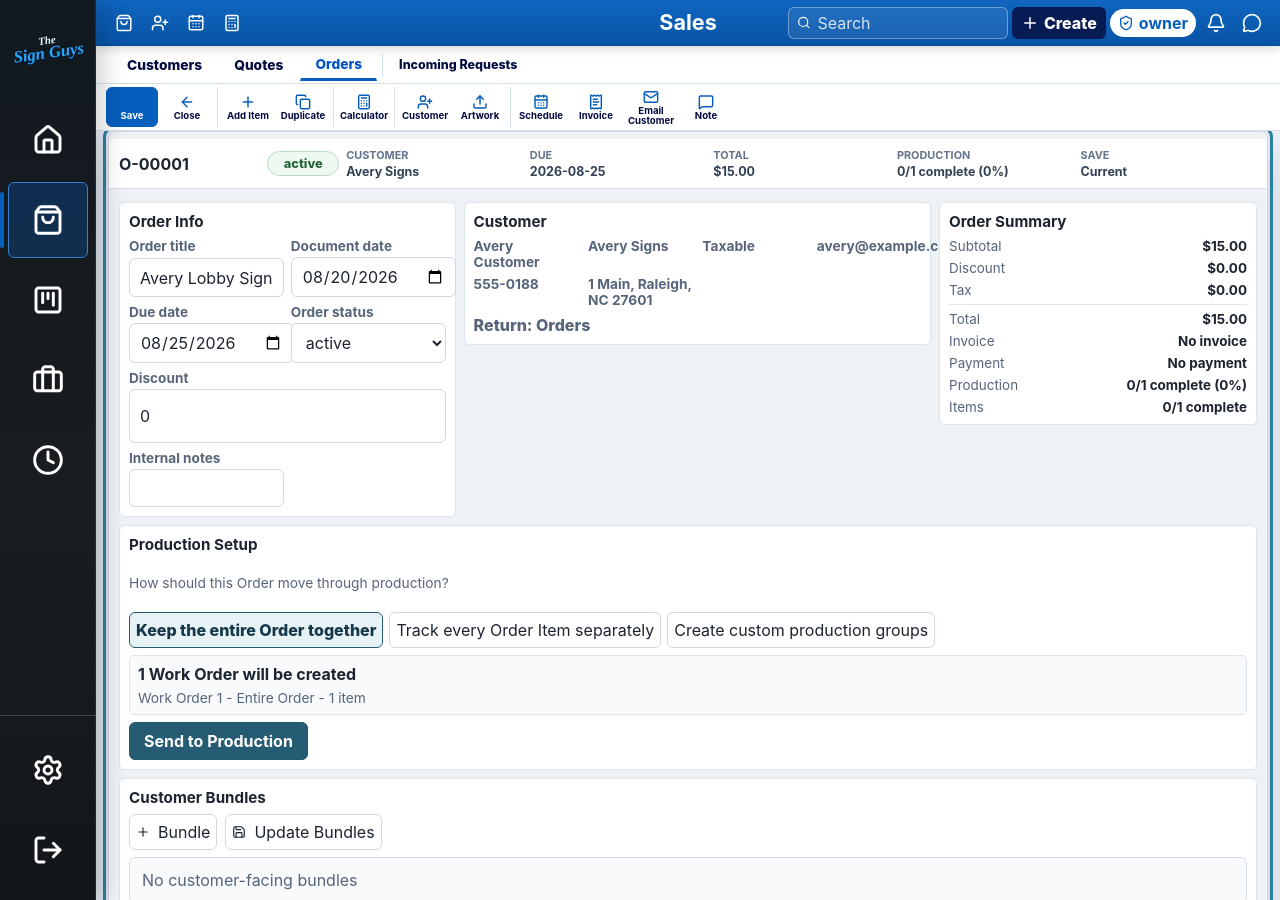
Test: Part 2 UI › blocks custom production send until every production item is assigned
This screenshot has width=1280, height=900.
Click the button "Create custom production groups": (801, 630) [667,612,935,648]
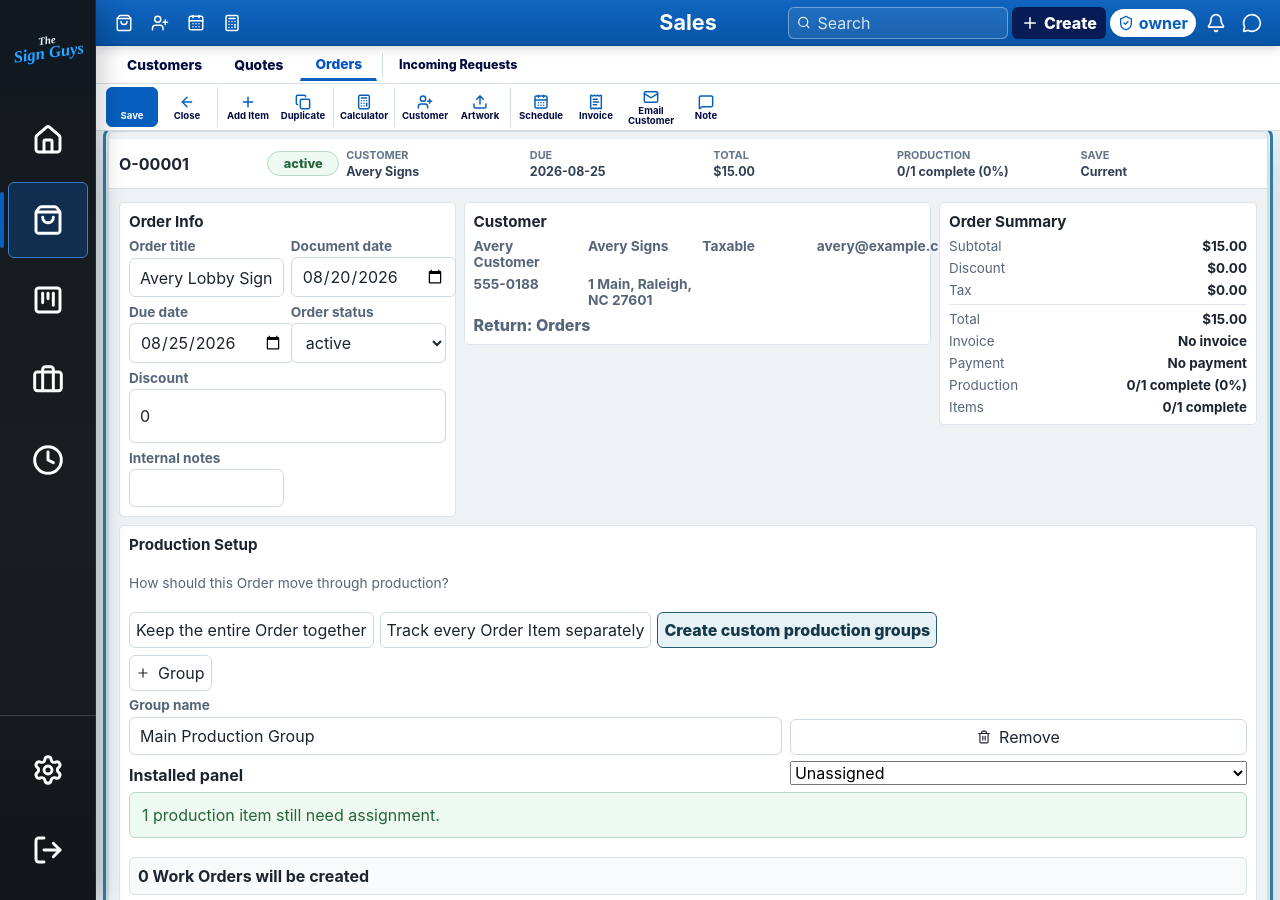
Expected: the text "1 production item still need assignment." is shown, [129,792,1247,838]
Select "Leave independent" in the dropdown named "Production group for Installed panel": (1018, 772) [790,760,1247,784]
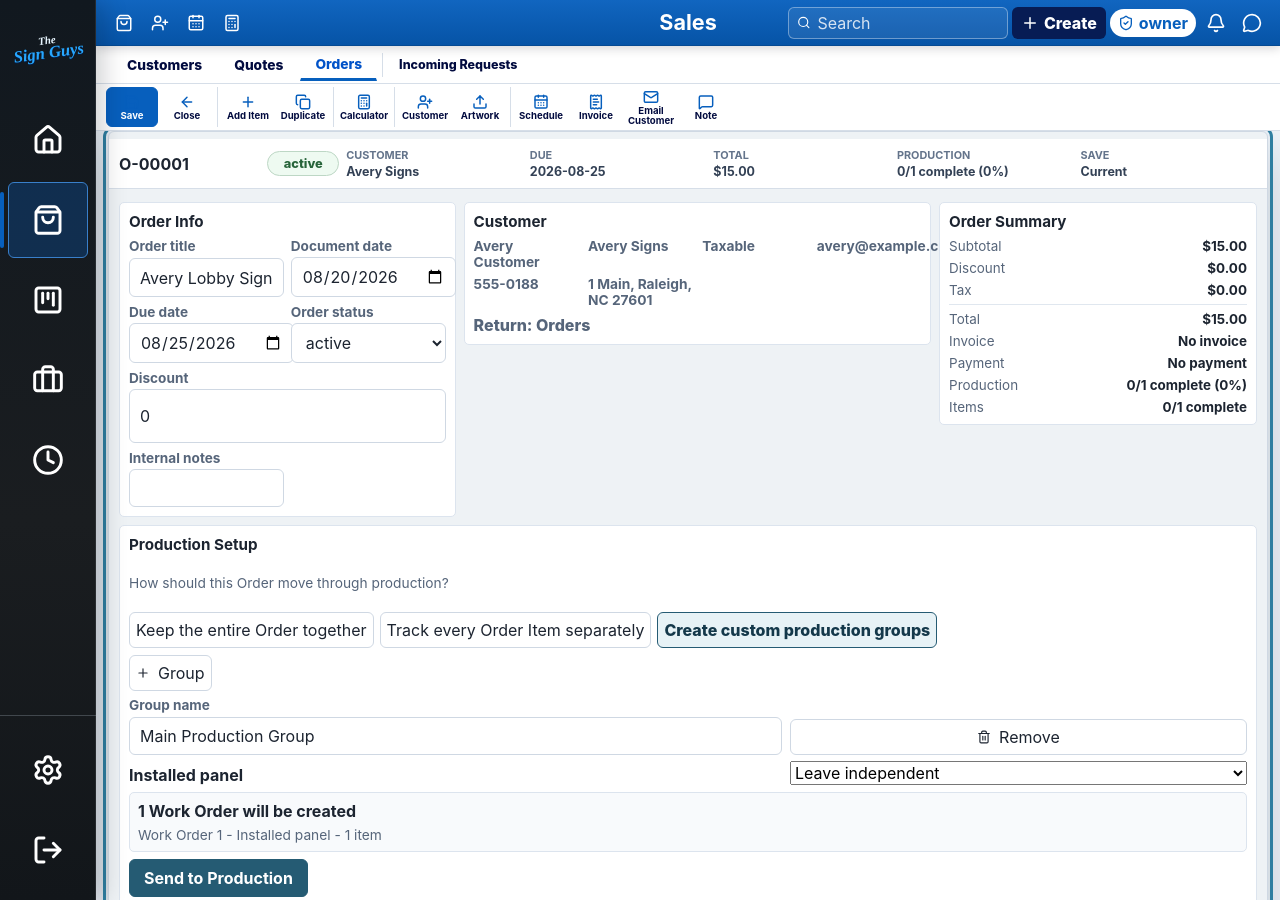
Expected: the button "Send to Production" is enabled, [129,858,308,896]
